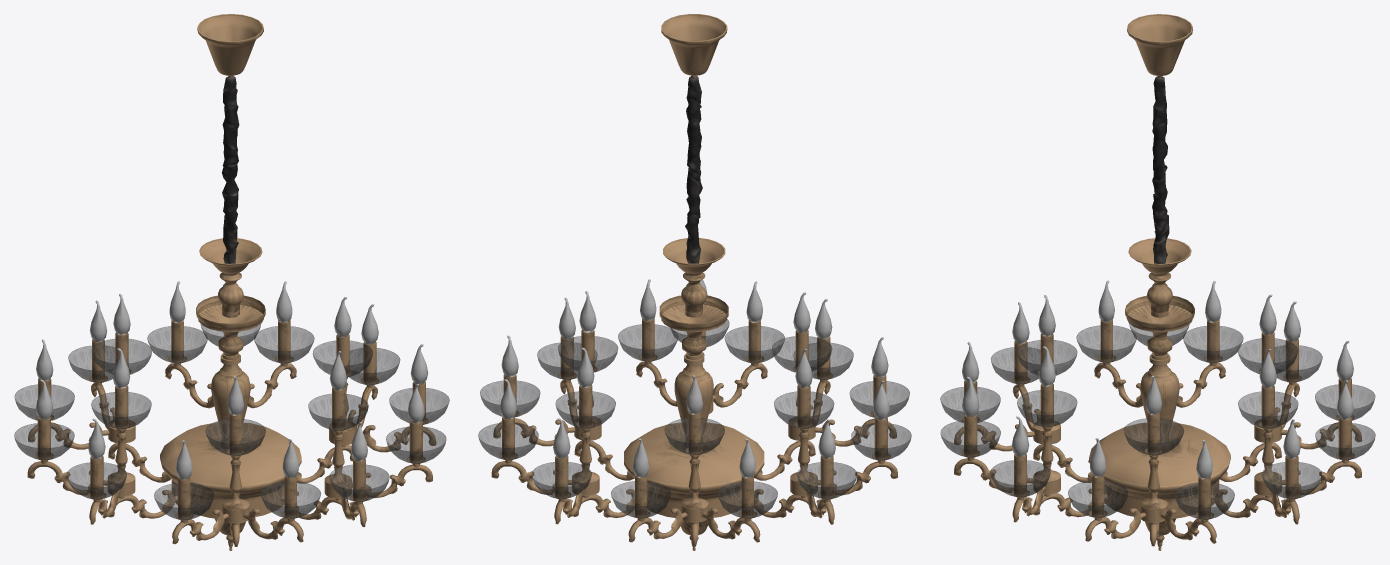
File: polyhaven-chandelier-03.glb
3 renders of one model, left to right at view 1: azimuth 30°, elevation 25°; view 2: azimuth 150°, elevation 25°; view 3: azimuth 270°, elevation 25°, orthographic.
Visible parts, largest first — view 1: Chandelier_03; view 2: Chandelier_03; view 3: Chandelier_03.
Part boxes in pixels (<box>): Chandelier_03: <box>14,14,449,550</box>; Chandelier_03: <box>478,14,911,550</box>; Chandelier_03: <box>940,14,1375,550</box>.
Size of the model in its own units: 0.7804 by 1.04 by 0.7854.
2 materials, 2 textured.
